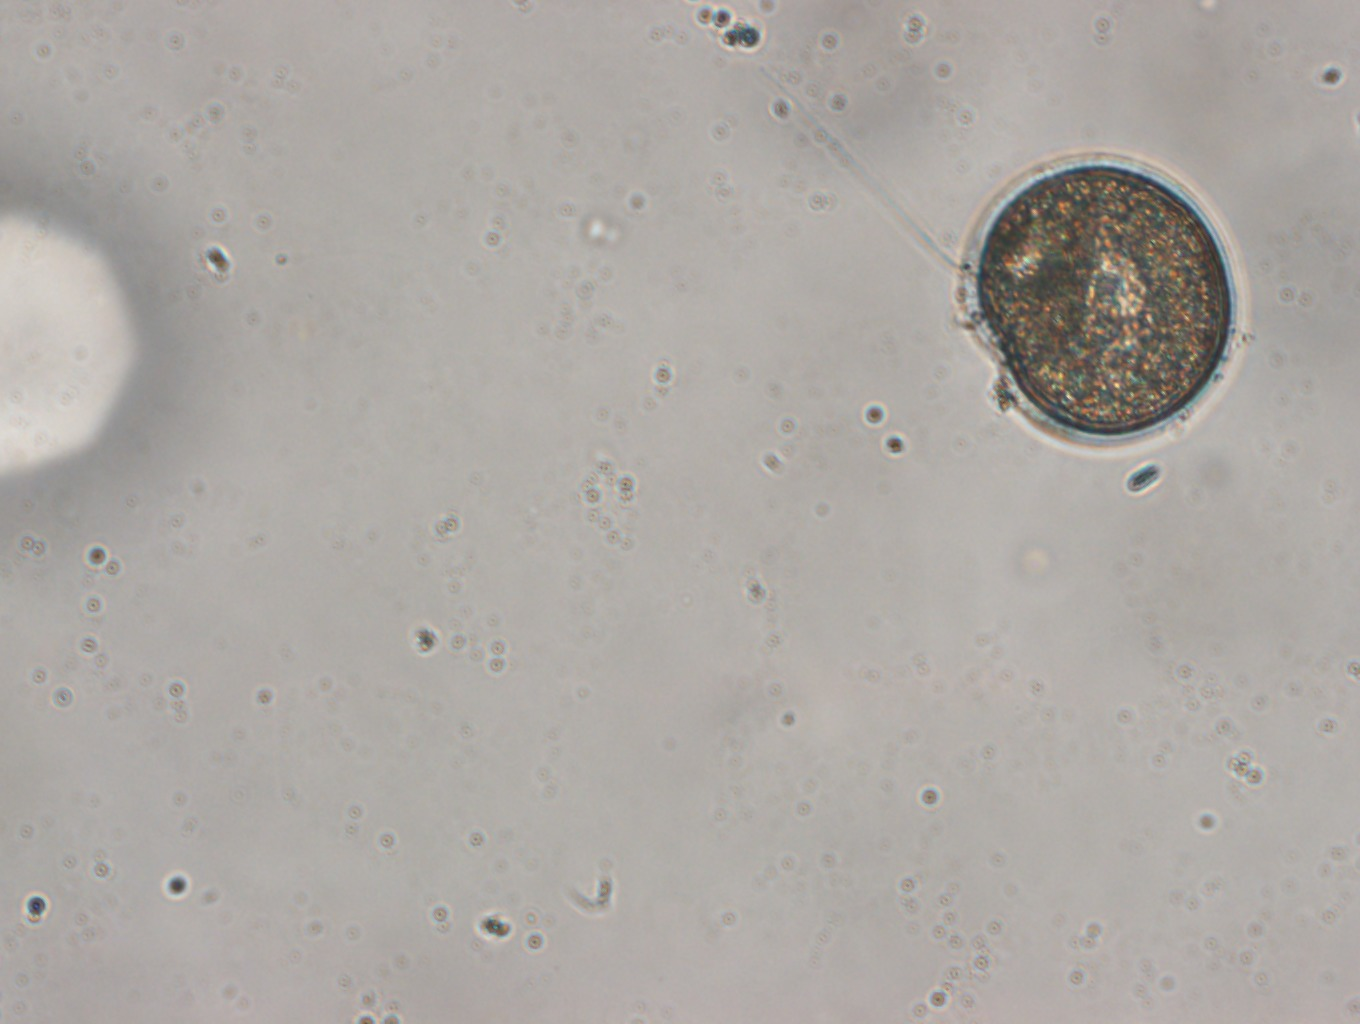coscinodiscus: (953, 150, 1236, 447)
